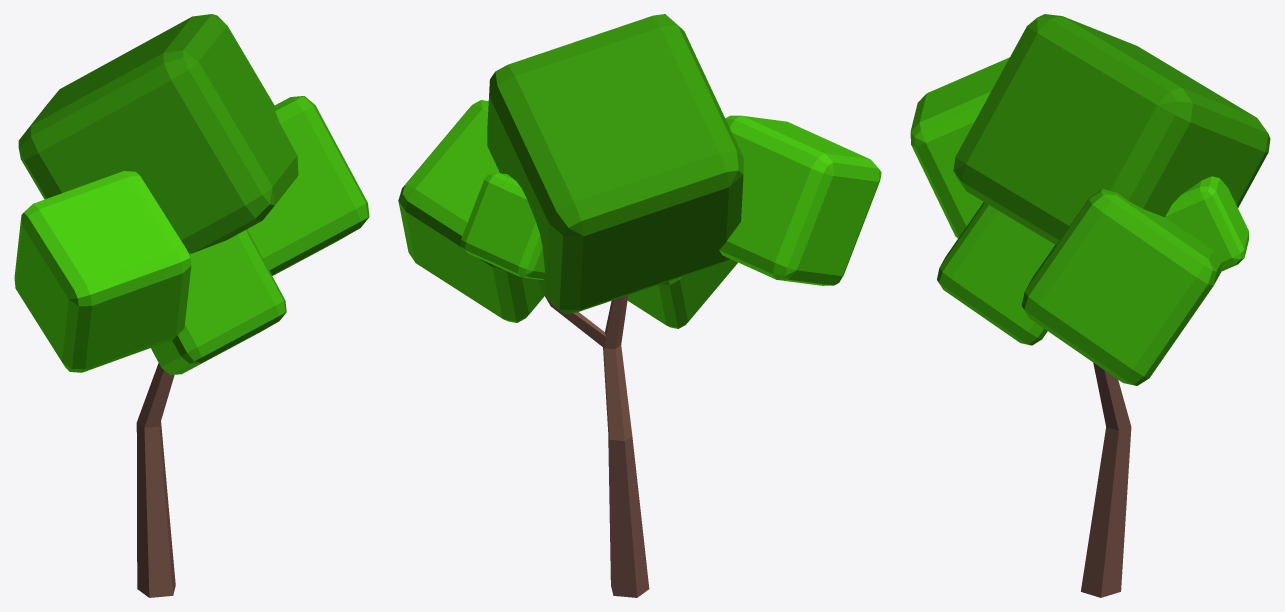
The model's file is treeSet_green4.dae.
3 views of the same model, side by side, from view 1: azimuth 30°, elevation 25°; view 2: azimuth 150°, elevation 25°; view 3: azimuth 270°, elevation 25° (orthographic). The views are drawn at different scales.
Parts seen in each view (by area): view 1: leaves (×4), bark; view 2: leaves (×5), bark; view 3: leaves (×5), bark.
Part boxes in pixels (x1=…): leaves (×4): x1=14, y1=14, x2=369, y2=374; bark: x1=136, y1=363, x2=175, y2=597; leaves (×5): x1=398, y1=14, x2=881, y2=328; bark: x1=546, y1=295, x2=649, y2=597; leaves (×5): x1=910, y1=14, x2=1270, y2=385; bark: x1=1081, y1=363, x2=1131, y2=597.
Bounding box in the file's own units: 646 × 925 × 529.
1 material, 1 textured.
